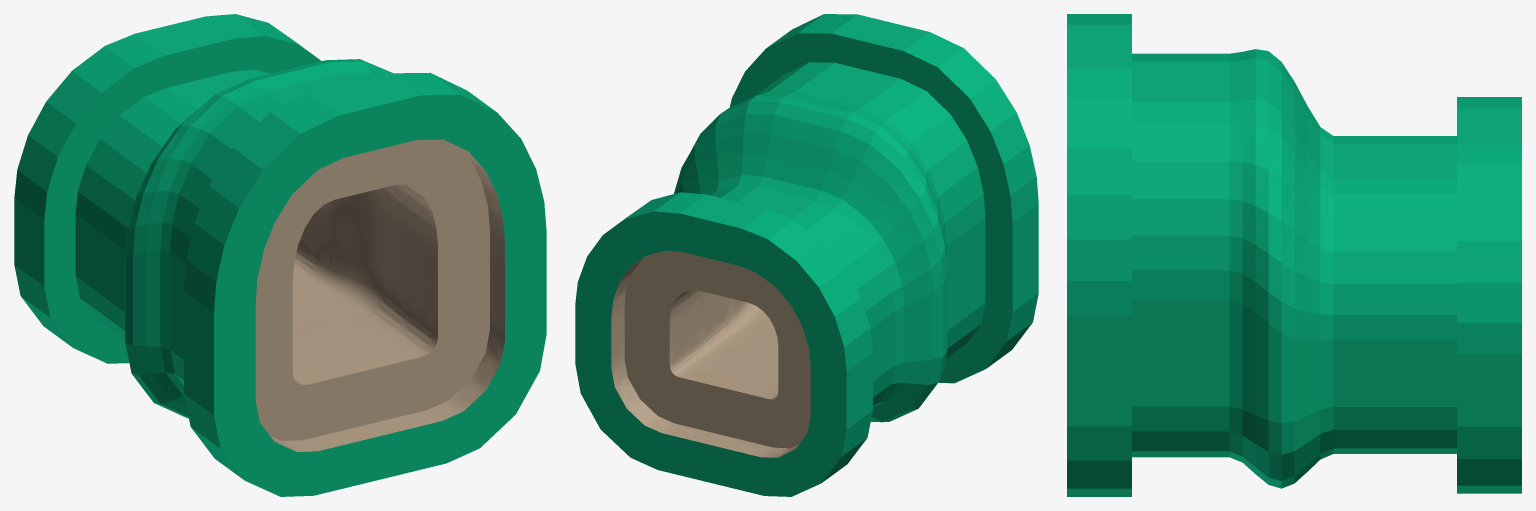
The model's file is TT_Trans_C_P.fbx.
3 renders of one model, left to right at view 1: azimuth 30°, elevation 25°; view 2: azimuth 150°, elevation 25°; view 3: azimuth 270°, elevation 25°, orthographic. The views are drawn at different scales.
Parts seen in each view (by area): view 1: TT_Trans_C_P_LOD0; view 2: TT_Trans_C_P_LOD0; view 3: TT_Trans_C_P_LOD0.
Part boxes in pixels (x1=…): TT_Trans_C_P_LOD0: x1=14, y1=14, x2=546, y2=496; TT_Trans_C_P_LOD0: x1=575, y1=14, x2=1038, y2=496; TT_Trans_C_P_LOD0: x1=1067, y1=14, x2=1521, y2=496.
Size of the model in its own units: 320 by 344 by 350.
